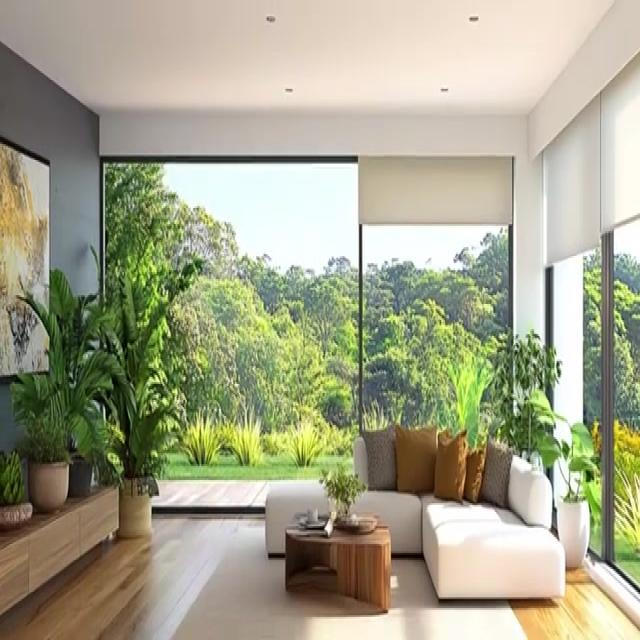obstacle: (264, 425, 565, 603), (0, 482, 119, 631), (284, 512, 391, 612)
